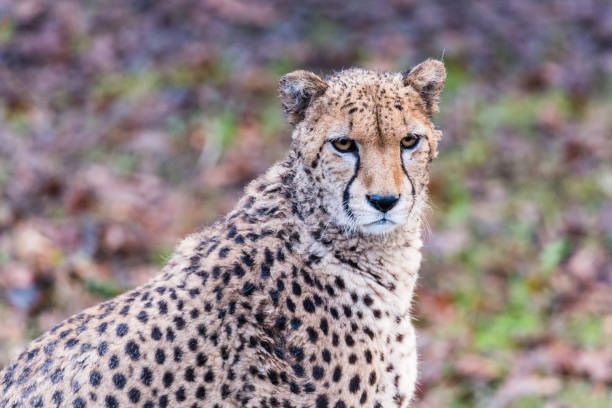cheetah: (268, 42, 454, 249)
